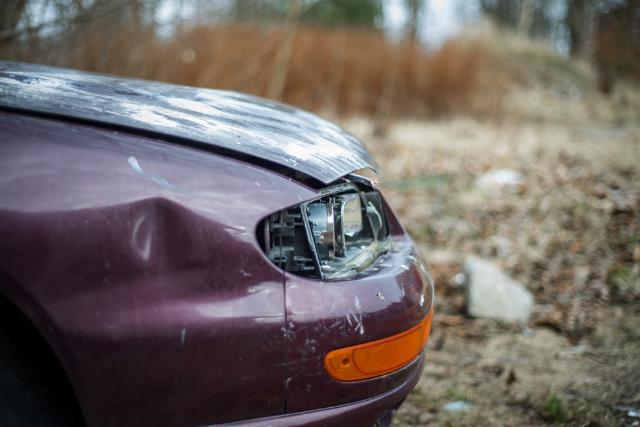dent: (43, 197, 283, 336)
lamp broken: (305, 191, 386, 280)
